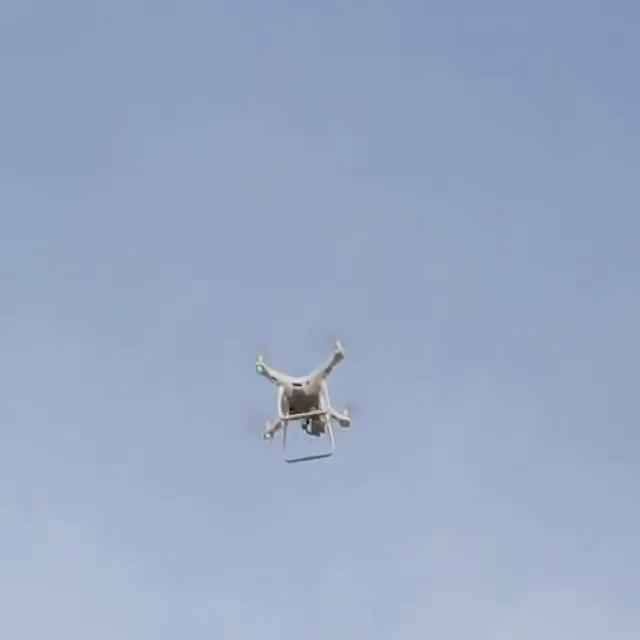drone: (238, 334, 366, 452)
